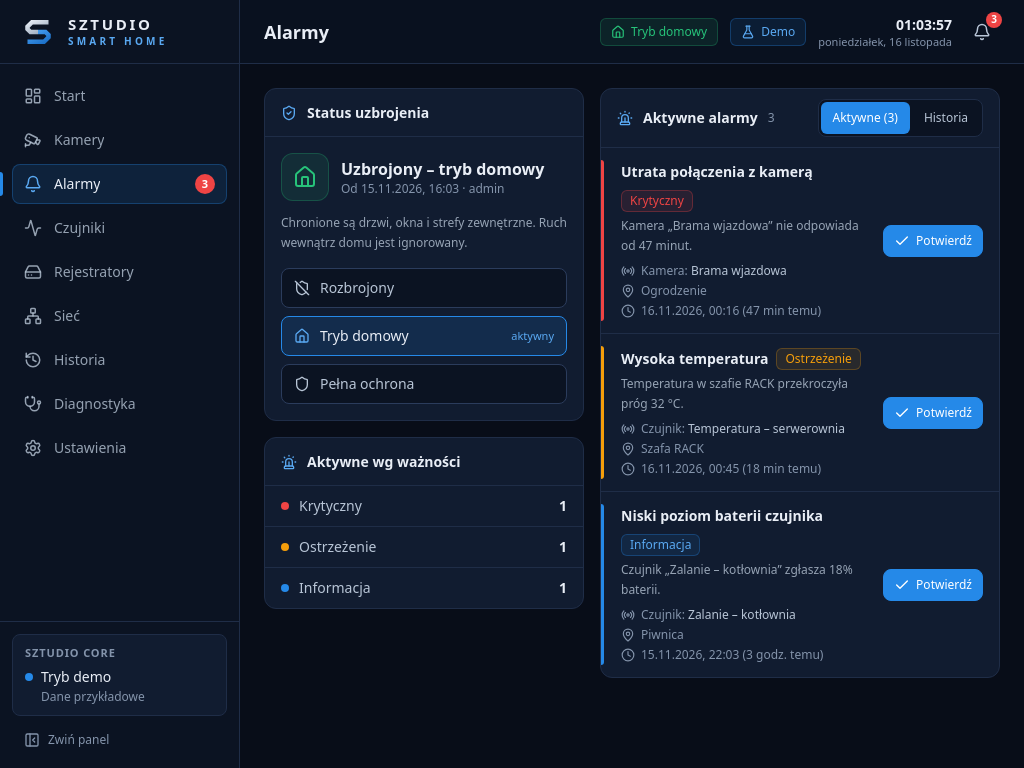
alarmy › zmienia tryb uzbrojenia systemu
Expected: the text with test id "arming-state" reads "Uzbrojony – tryb domowy", [341,158,544,180]
Click the button "Rozbrojony": (357, 288) [281,268,567,308]
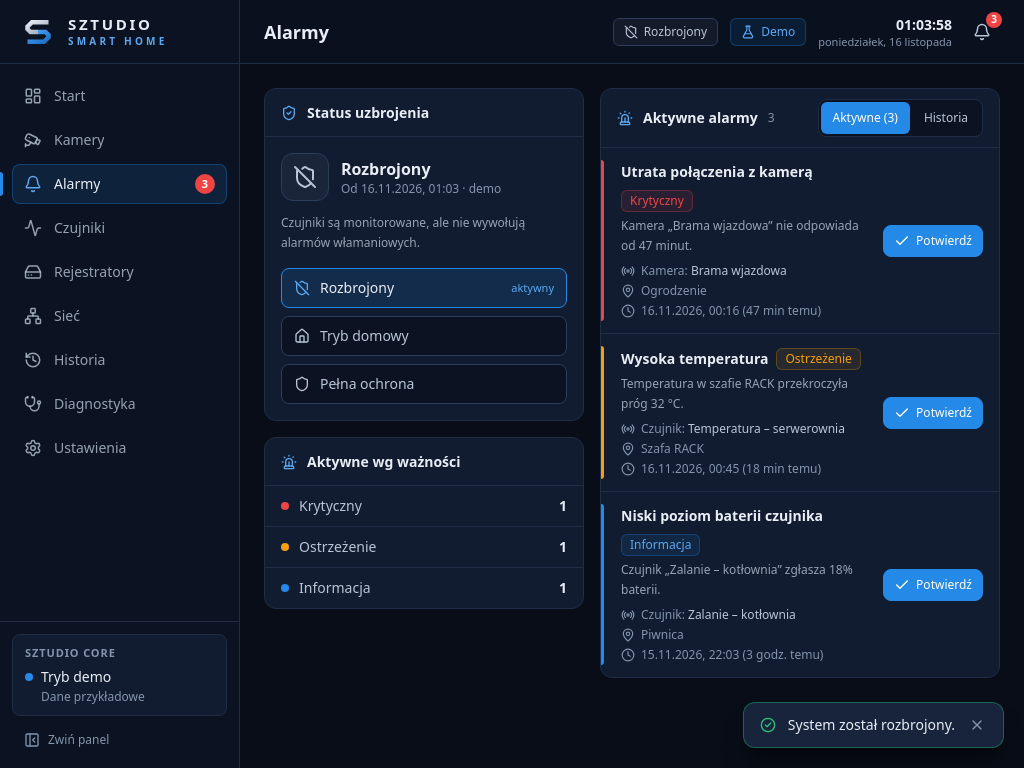
Expected: the text with test id "arming-state" reads "Rozbrojony", [341,158,430,180]
